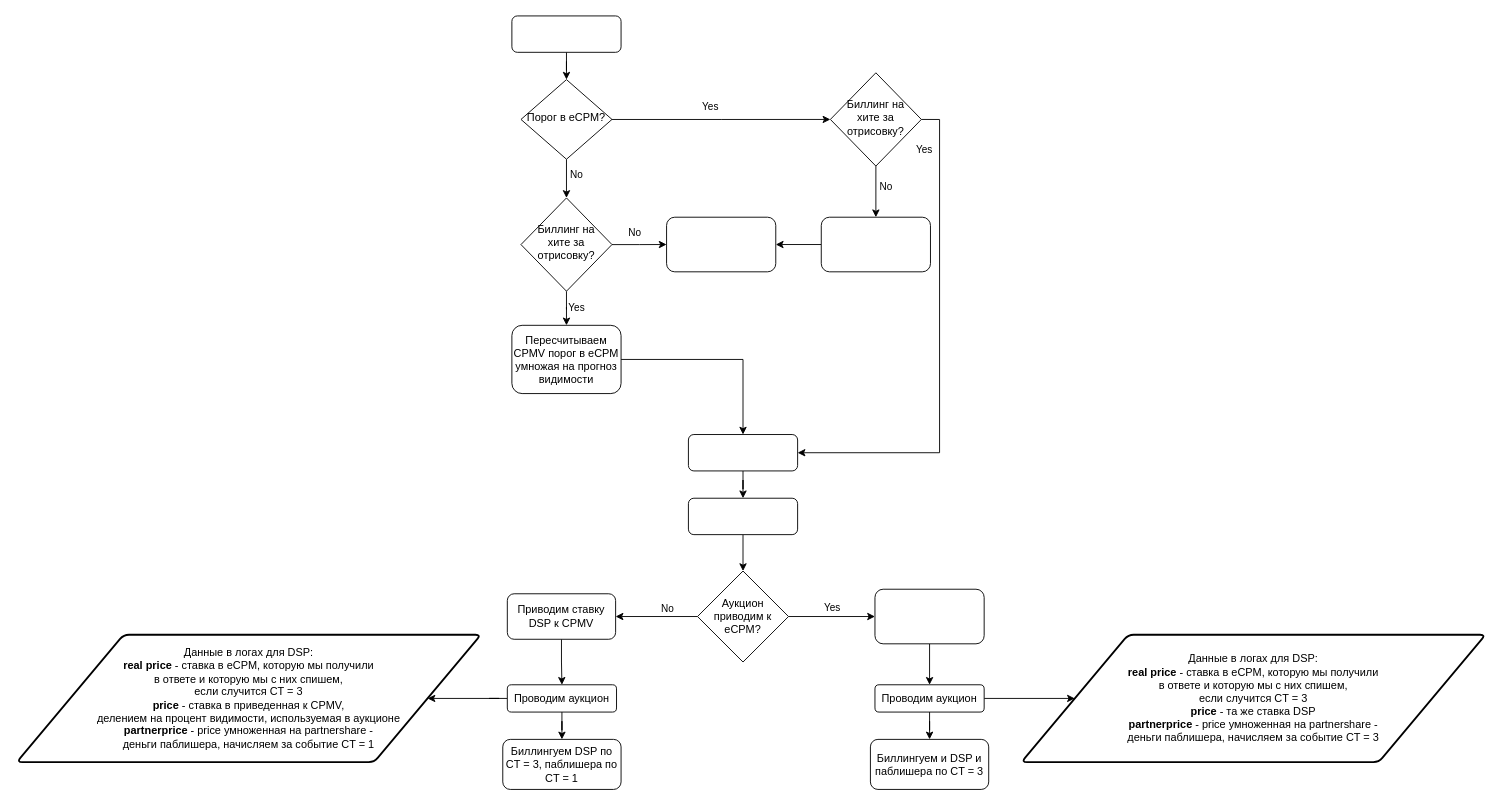
The diagram is 1502 pixels wide and 805 high, and some of its shapes have lost their labels. The shapes that lost their labels are listed below. From the top down, each one's centre as x and y in pixels, then its label:
At pixel 566 33: "вызов рекламы".
At pixel 721 244: "Проводим аукцион в текущем виде".
At pixel 875 244: "Переводим порог для DSP из eCPM в CPMV деля на прогноз видимости".
At pixel 743 452: "Отправляем запрос в DSP с полученным порогом в eCPM".
At pixel 743 516: "Получаем ответ от DSP принимая ставку за eCPM".
At pixel 929 616: "Переводим ставку Директа к eCPM".
